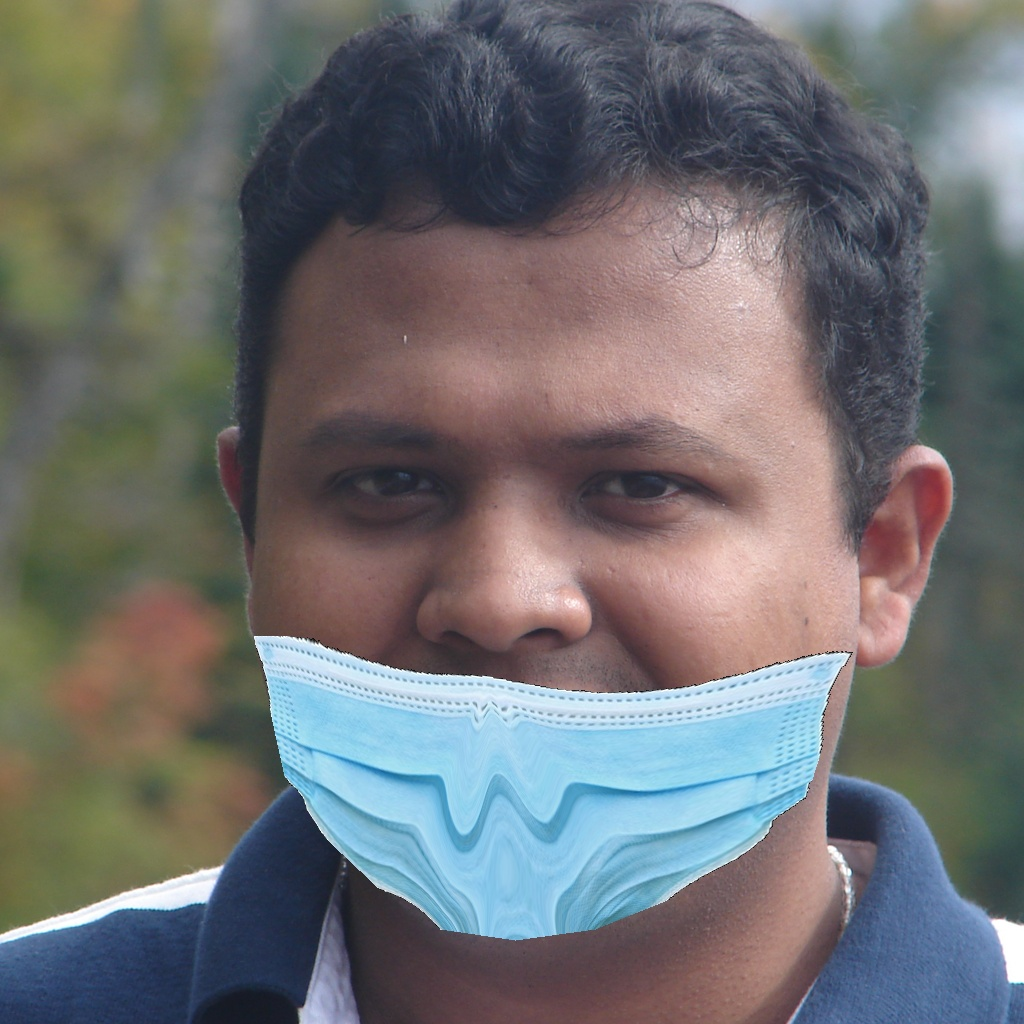mascarilla_mal_puesta: (208, 333, 926, 990)
